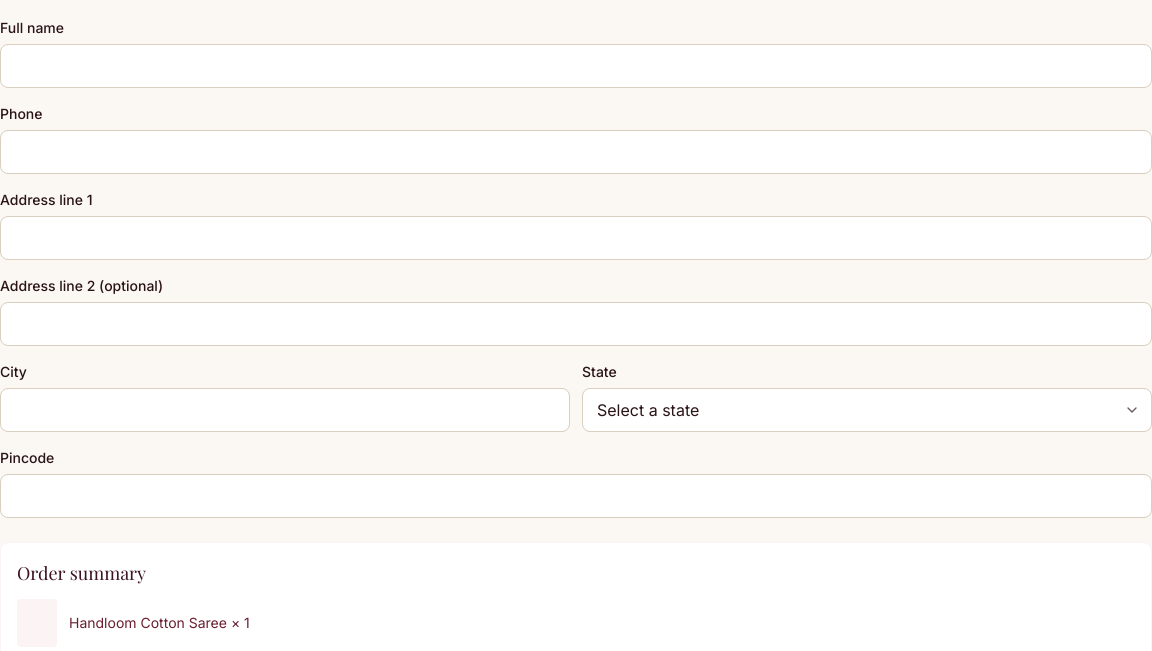
Test: CheckoutForm › pincode-based shipping › fills the state and shows the fee for the pincode
Type "560001" into the field labelled "Pincode".
click(576, 496); type("560001")  # box x1=0 y1=474 x2=1151 y2=518
(page scrolled)
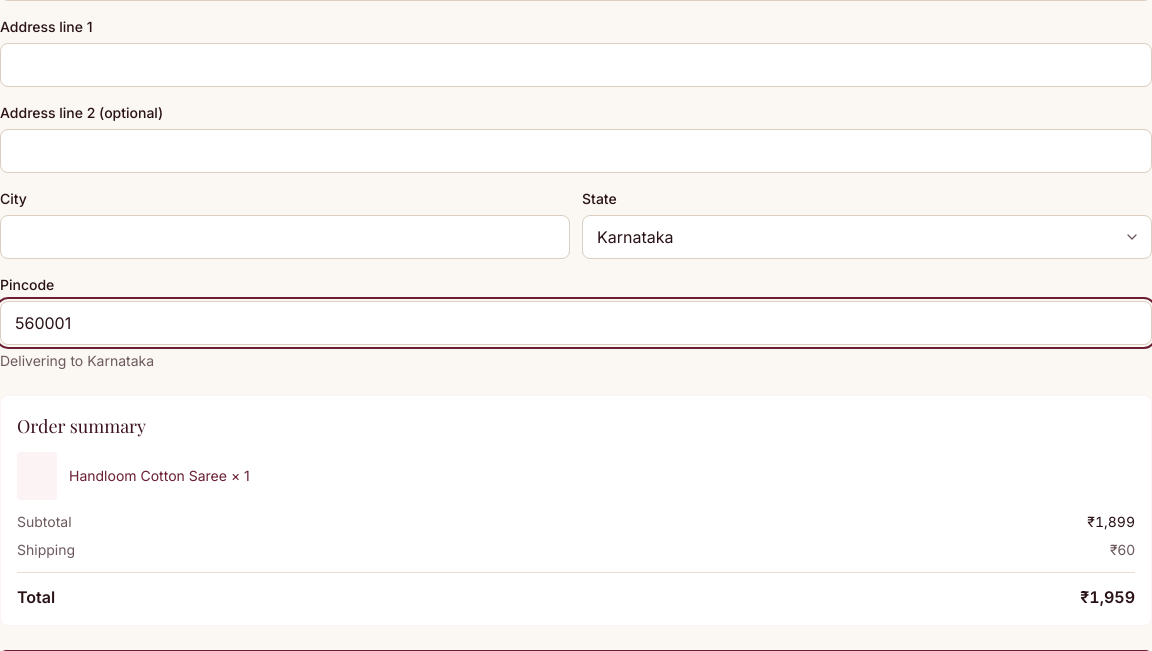
expect the dropdown labelled "State" shows "Karnataka": met, box x1=582 y1=215 x2=1151 y2=259
expect the text "Delivering to Karnataka" is shown: met, box x1=0 y1=352 x2=154 y2=369
expect the text "₹60" is shown: met, box x1=1110 y1=540 x2=1135 y2=560
